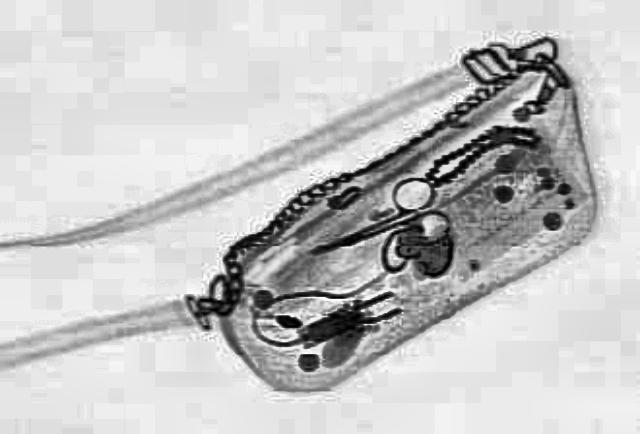Scissors: (281, 170, 473, 278)
